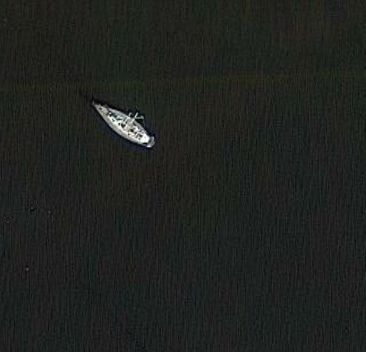boat: (88, 97, 159, 153)
